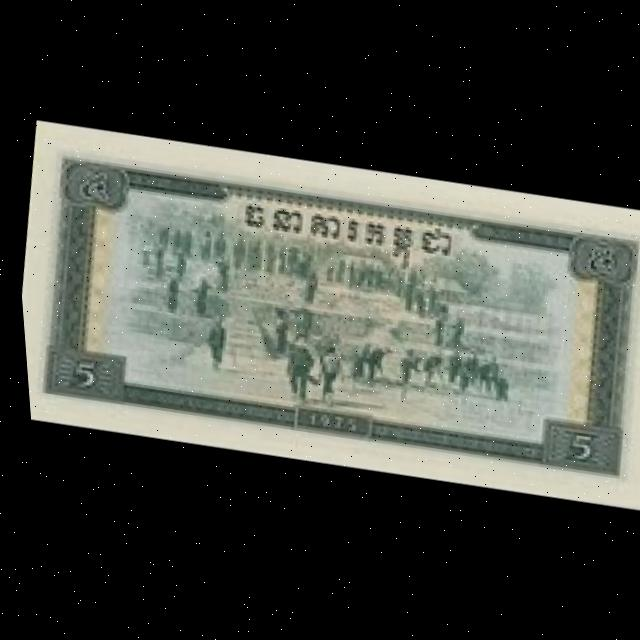banknote: (7, 117, 640, 507), (542, 420, 609, 476), (50, 350, 112, 401)
